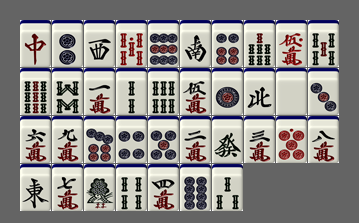0m: (276, 20, 307, 67)
0p: (276, 116, 307, 163)
0s: (116, 20, 147, 67)
1m: (84, 68, 115, 115)
1p: (212, 68, 243, 115)
1s: (84, 164, 115, 211)
1z: (20, 164, 51, 211)
2m: (180, 116, 211, 163)
2p: (52, 20, 83, 67)
2s: (116, 68, 147, 115)
2z: (180, 20, 211, 67)
3m: (244, 116, 275, 163)
3p: (308, 68, 339, 115)
3s: (212, 164, 243, 211)
3z: (84, 20, 115, 67)
4m: (148, 164, 179, 211)
4p: (116, 116, 147, 163)
4s: (116, 164, 147, 211)
4z: (244, 68, 275, 115)
5m: (180, 68, 211, 115)
5p: (148, 116, 179, 163)
5s: (308, 20, 339, 67)
5z: (276, 68, 307, 115)
6m: (20, 116, 51, 163)
6p: (212, 20, 243, 67)
6s: (148, 68, 179, 115)
6z: (212, 116, 243, 163)
7m: (52, 164, 83, 211)
7p: (84, 116, 115, 163)
7s: (244, 20, 275, 67)
7z: (20, 20, 51, 67)
8m: (308, 116, 339, 163)
8p: (180, 164, 211, 211)
8s: (52, 68, 83, 115)
9m: (52, 116, 83, 163)
9p: (148, 20, 179, 67)
9s: (20, 68, 51, 115)
